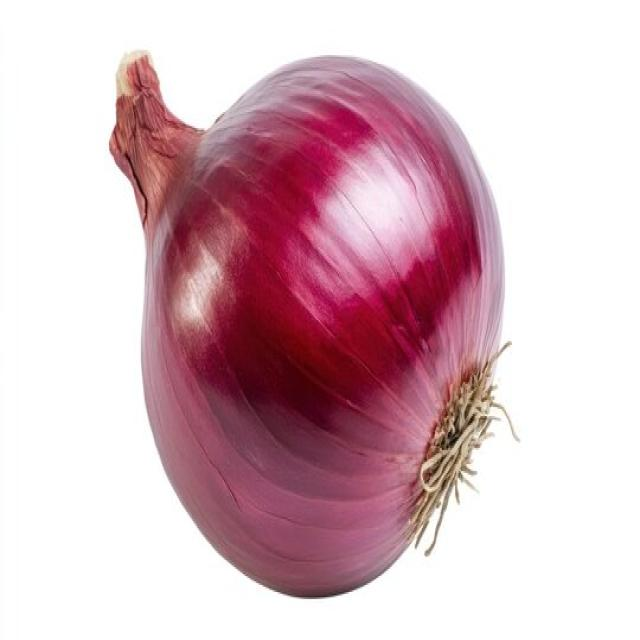Onion: (108, 46, 519, 599)
